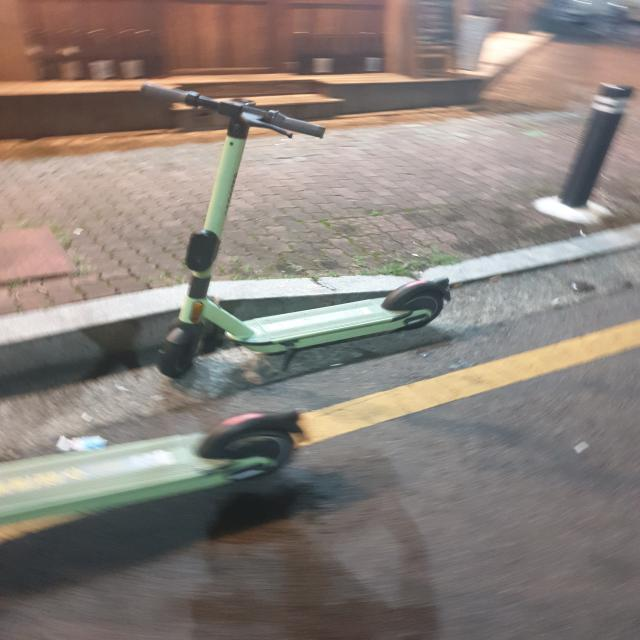bike: (138, 81, 451, 380)
